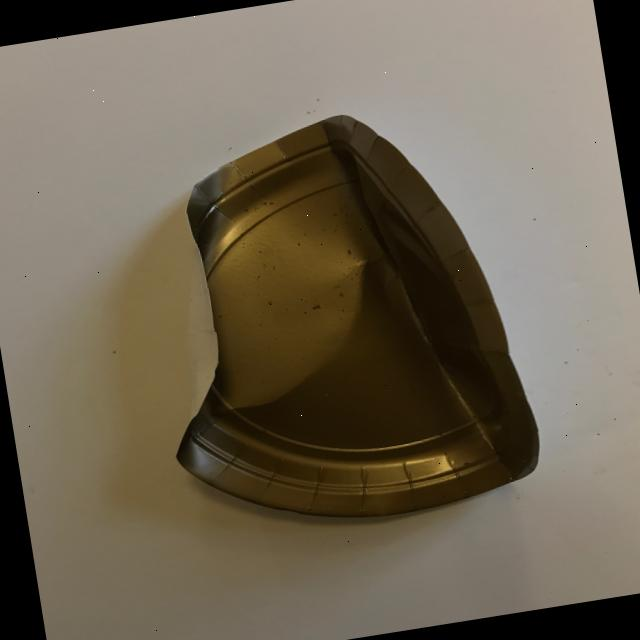paper: (0, 0, 640, 640), (126, 90, 549, 548)
